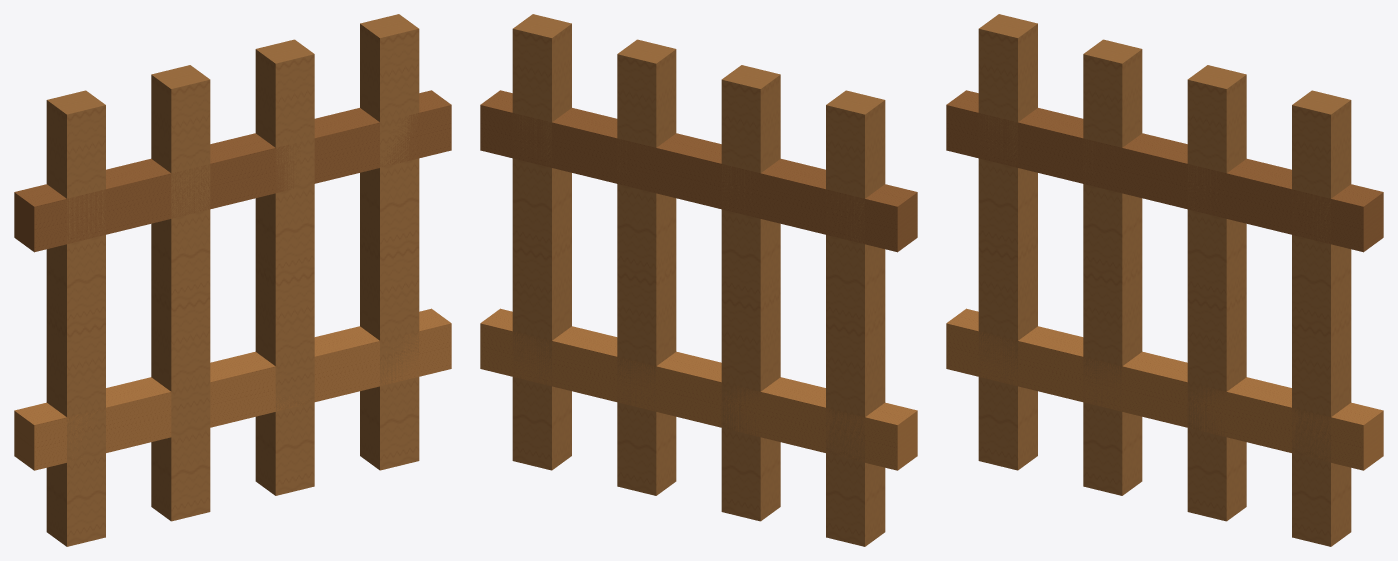
File: right-gate.glb
3 views of the same model, side by side, from view 1: azimuth 30°, elevation 25°; view 2: azimuth 150°, elevation 25°; view 3: azimuth 330°, elevation 25° (orthographic).
Bounding box in the file's own units: 0.96 × 0.95 × 0.08.
Materials: 3 (3 with a texture image).
